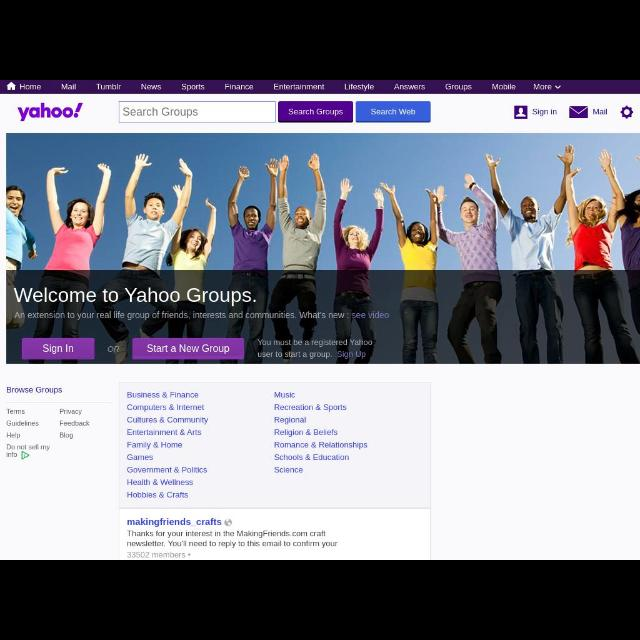icon: (621, 105, 635, 118), (7, 82, 16, 92), (223, 519, 233, 527), (555, 85, 561, 89)
image: (17, 104, 83, 120), (568, 107, 588, 119), (514, 105, 526, 118)
input: (119, 101, 275, 121)
multitab: (1, 81, 639, 93)
spinner: (533, 82, 561, 94)
text: (14, 311, 390, 323), (12, 288, 256, 306), (128, 530, 338, 548), (258, 338, 372, 359), (123, 107, 199, 119), (146, 344, 230, 354), (274, 452, 350, 463), (128, 414, 210, 424), (128, 518, 222, 526), (126, 389, 200, 399), (274, 402, 348, 412), (6, 442, 50, 458), (125, 428, 202, 437), (127, 466, 207, 474), (127, 405, 205, 413), (126, 439, 184, 449), (275, 442, 369, 448), (288, 106, 344, 116), (126, 492, 190, 500), (5, 386, 63, 394), (127, 551, 185, 559), (126, 479, 192, 486), (274, 429, 340, 436), (274, 82, 324, 91), (41, 342, 75, 354), (369, 108, 416, 115), (444, 82, 474, 92), (344, 82, 376, 91), (532, 108, 558, 119), (394, 83, 428, 91), (58, 408, 84, 418), (492, 82, 516, 92), (6, 419, 40, 426), (180, 82, 203, 92), (5, 406, 28, 416), (274, 466, 302, 474), (140, 83, 162, 93), (60, 419, 90, 426), (96, 82, 122, 90), (127, 453, 153, 461), (533, 82, 553, 92), (274, 416, 306, 422), (226, 84, 254, 90), (60, 82, 76, 92), (106, 344, 122, 354), (274, 391, 294, 399), (60, 431, 74, 441), (20, 84, 42, 90), (592, 107, 608, 115), (6, 432, 22, 440)
textbutton: (132, 338, 244, 360), (356, 100, 432, 122), (21, 338, 95, 360), (280, 101, 352, 123)
toolbar: (1, 93, 639, 133)
